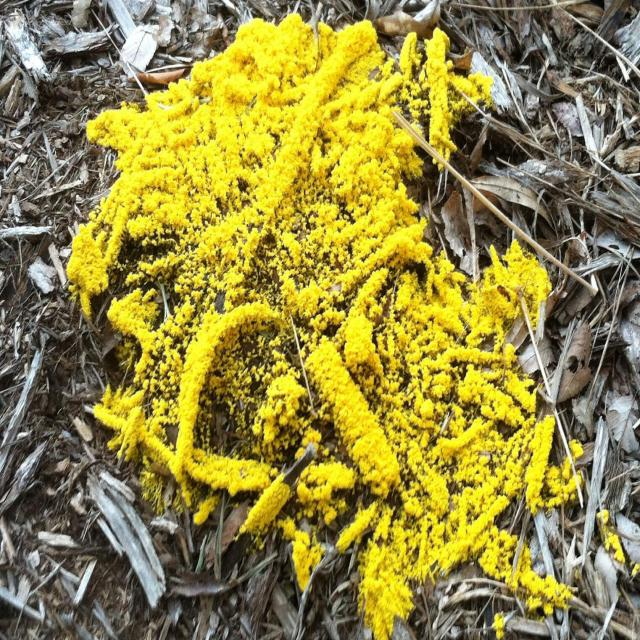Dog_vomit_slime_mold: (66, 11, 585, 636)
